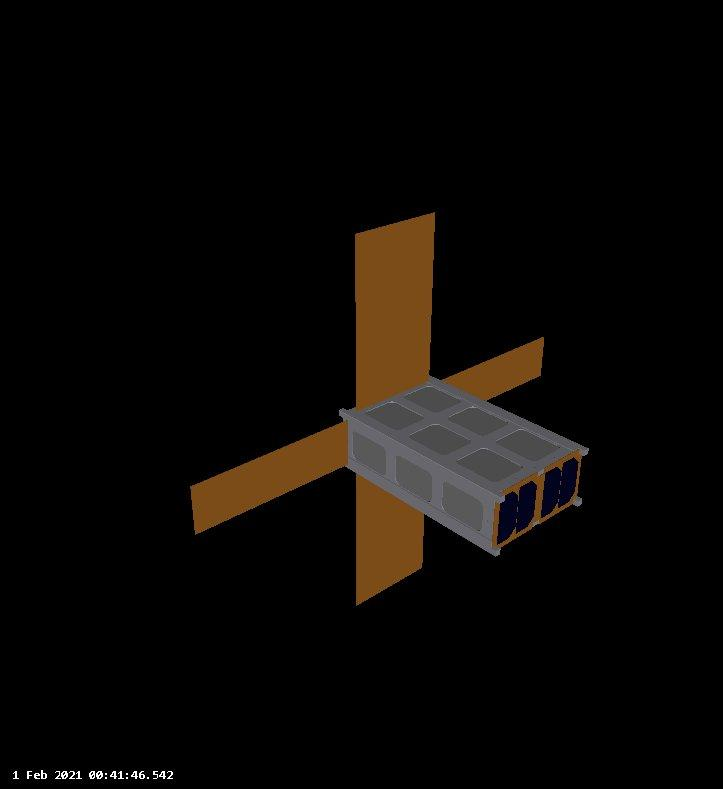body: (337, 373, 593, 561)
solar: (188, 418, 351, 540), (351, 209, 438, 413), (353, 470, 427, 610), (438, 333, 547, 403), (495, 478, 539, 548), (539, 454, 579, 520)
